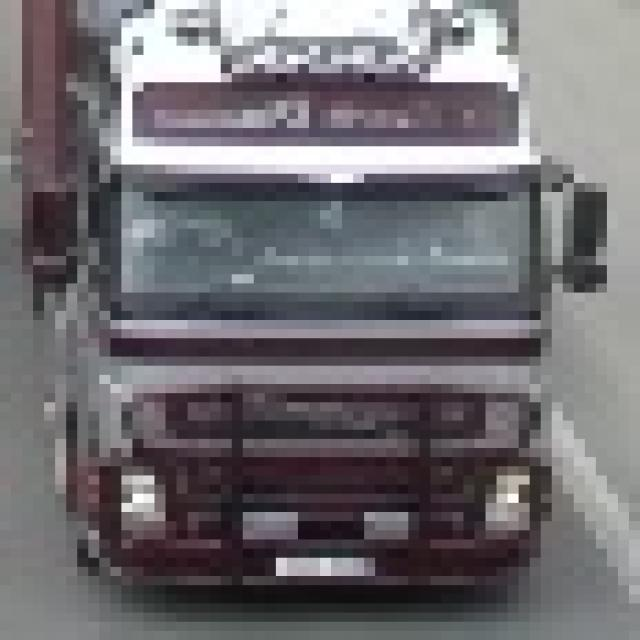TRUCK: (11, 7, 591, 600)
